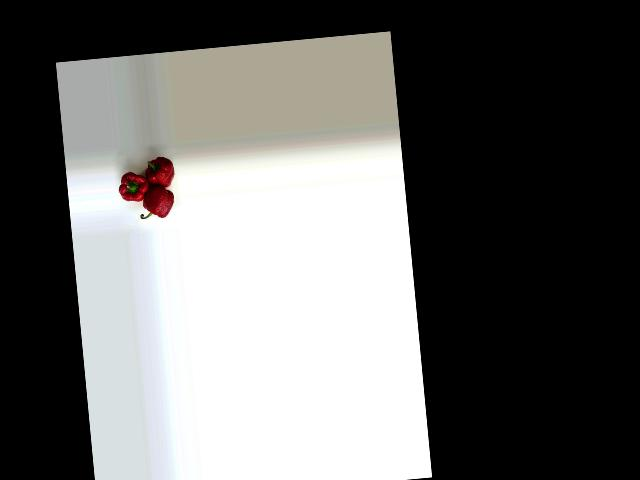bell_pepper: (136, 186, 177, 227)
